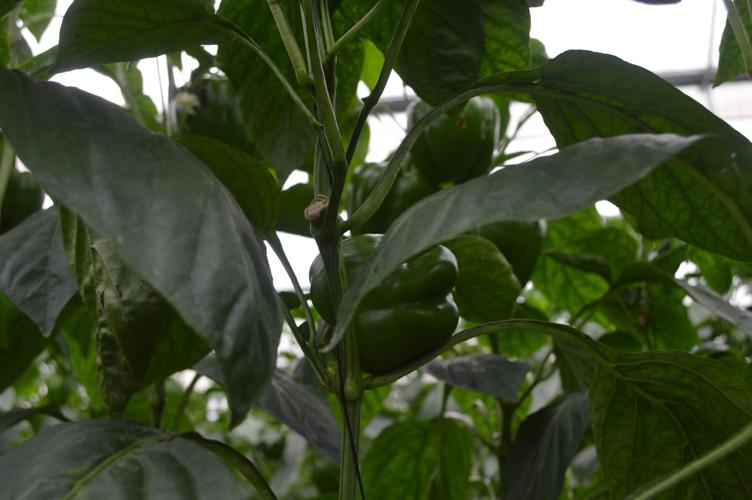BellPepper: (304, 234, 464, 367), (407, 97, 500, 185), (342, 157, 436, 227)
